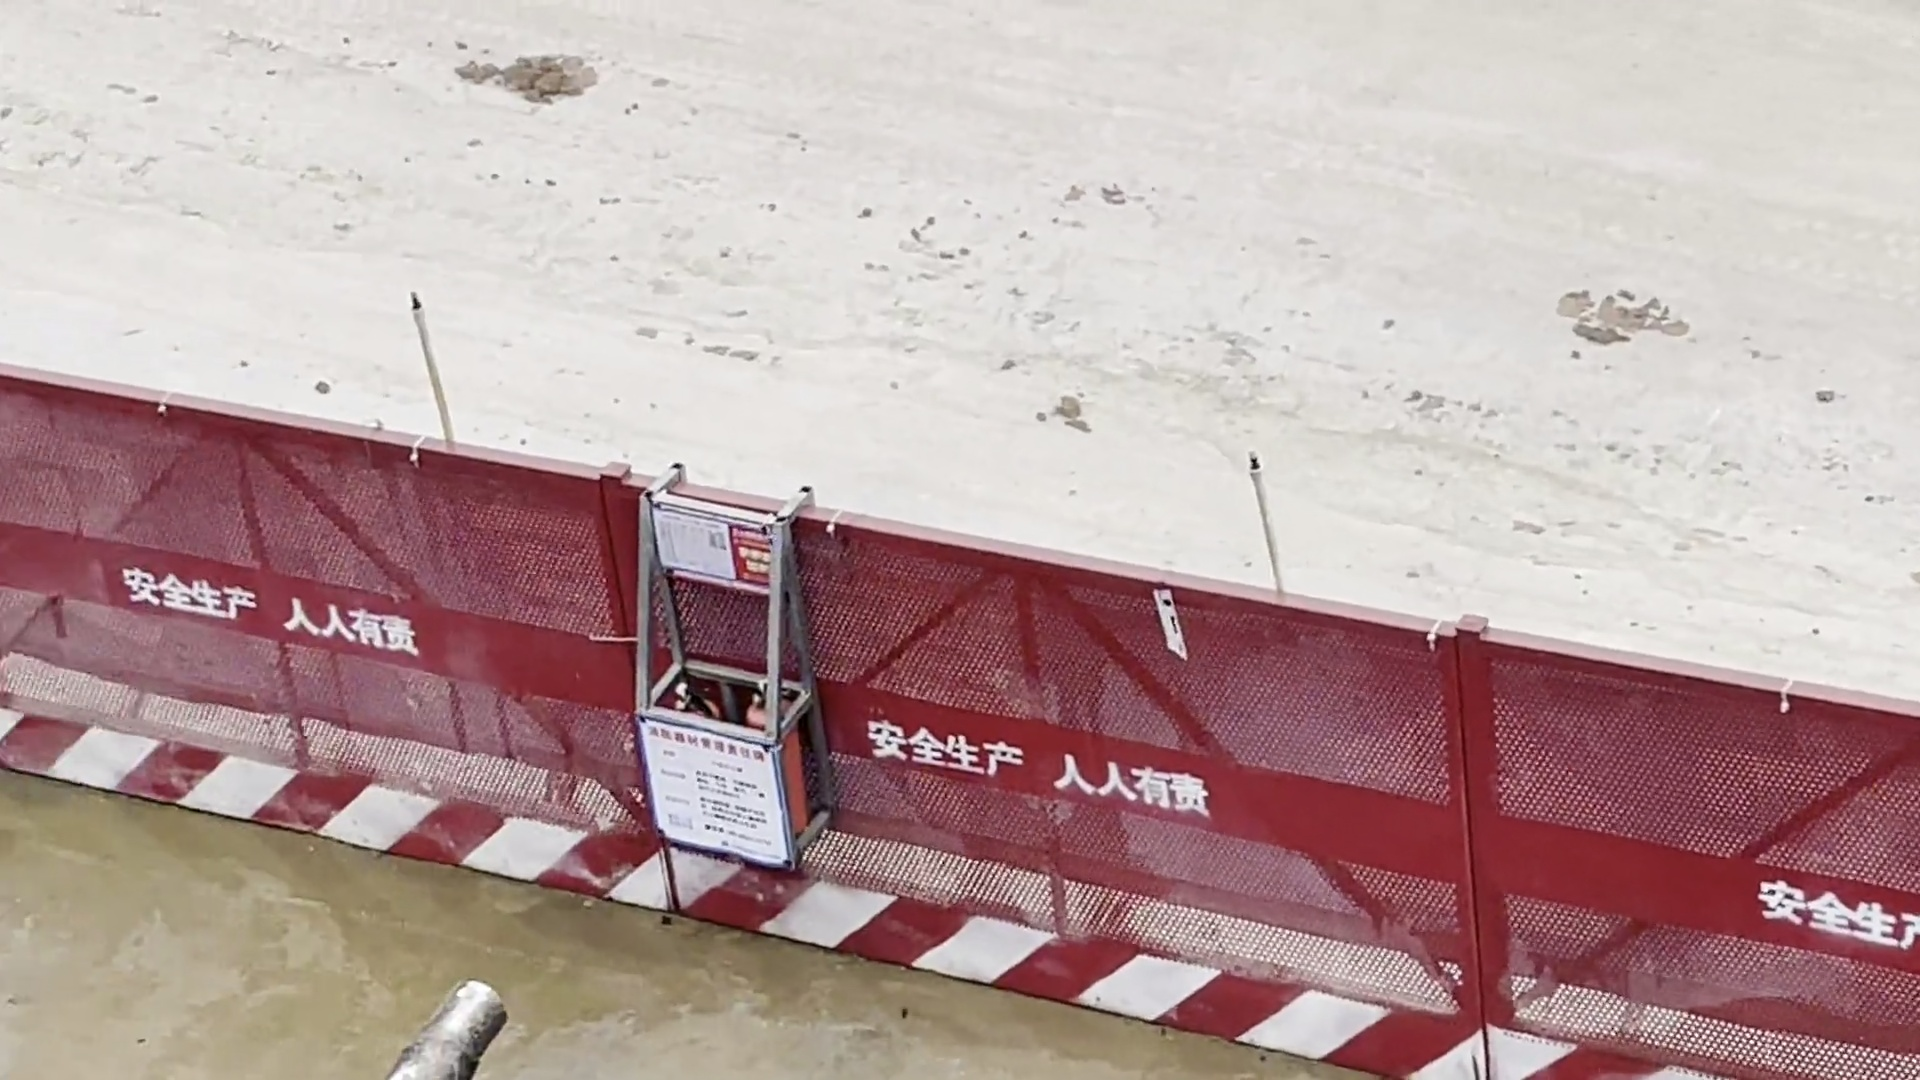fence: (1, 357, 1884, 1063)
